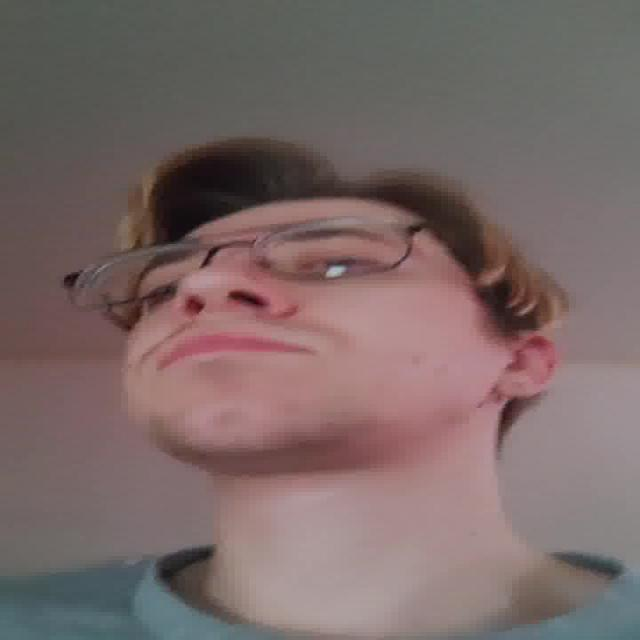earlobe: (488, 381, 541, 400)
eye: (290, 255, 384, 274), (134, 284, 177, 307)
nose: (175, 302, 280, 339)
wholeear: (494, 326, 564, 402)
